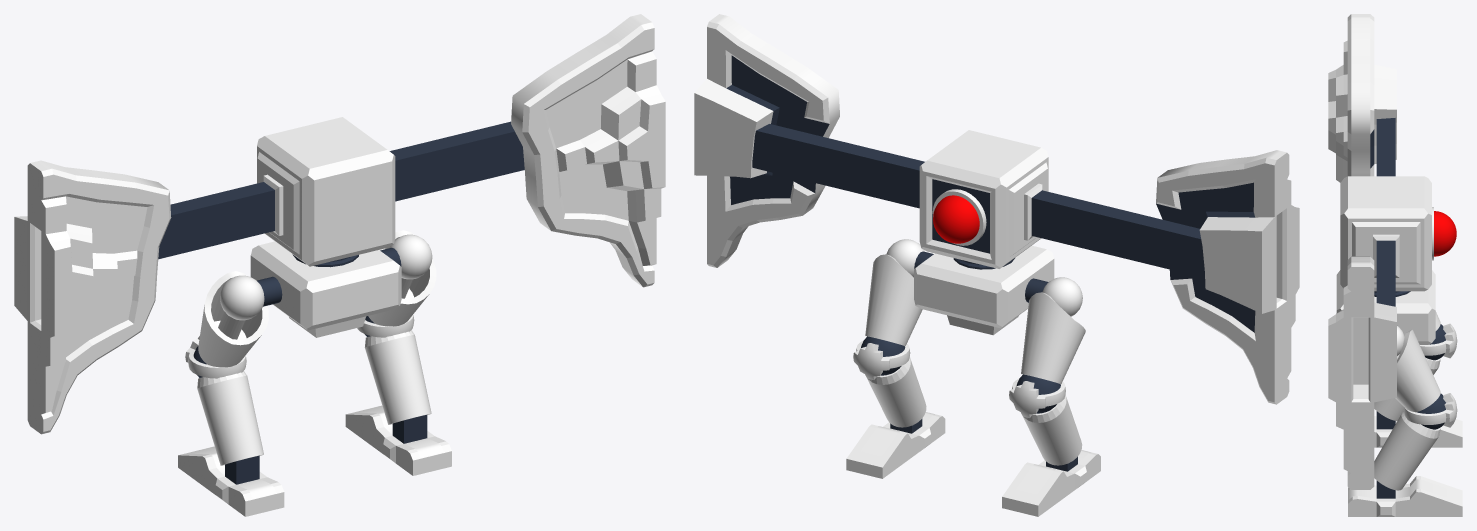
File: Knight_002.fbx
The picture shows the model from 3 angles, left to right: view 1: azimuth 30°, elevation 25°; view 2: azimuth 150°, elevation 25°; view 3: azimuth 270°, elevation 25°; orthographic projection. The views are drawn at different scales.
Visible parts, largest first — view 1: knightShieldLeft_001, knightShieldRight_001, knightHead_001, knightBody_001, knightArmRight_001, knightArmLeft_001, knightCalfLeft_001, knightCalfRight_001, knightFootRight_001, knightFootLeft_001, knightThighLeft_001, knightThighRight_001 (+3 smaller); view 2: knightShieldLeft_001, knightShieldRight_001, knightHead_001, knightArmLeft_001, knightArmRight_001, knightBody_001, knightThighLeft_001, knightThighRight_001, knightFootRight_001, knightFootLeft_001, knightCalfLeft_001, knightCalfRight_001 (+5 smaller); view 3: knightShieldRight_001, knightHead_001, knightShieldLeft_001, knightFootRight_001, knightCalfRight_001, knightThighRight_001, knightBody_001, knightArmRight_001, knightArmLeft_001, knightKneeRight_001, knightFootLeft_001, knightCore_001 (+2 smaller).
Part boxes in pixels (box(x1,y1,x2,y2)): knightShieldLeft_001: box(14, 160, 171, 434); knightShieldRight_001: box(511, 14, 665, 287); knightHead_001: box(257, 117, 395, 266); knightBody_001: box(250, 241, 401, 337); knightArmRight_001: box(389, 121, 524, 201); knightArmLeft_001: box(158, 174, 283, 259); knightCalfLeft_001: box(197, 371, 263, 465); knightCalfRight_001: box(364, 330, 431, 424); knightFootRight_001: box(345, 405, 451, 475); knightFootLeft_001: box(178, 446, 284, 516); knightThighLeft_001: box(198, 271, 268, 367); knightThighRight_001: box(368, 230, 436, 326); knightShieldLeft_001: box(1156, 150, 1299, 404); knightShieldRight_001: box(694, 14, 839, 267); knightHead_001: box(919, 130, 1048, 268); knightArmLeft_001: box(1024, 183, 1204, 277); knightArmRight_001: box(752, 124, 924, 208); knightBody_001: box(914, 245, 1054, 335); knightThighLeft_001: box(1021, 292, 1085, 383); knightThighRight_001: box(865, 254, 922, 346); knightFootRight_001: box(846, 412, 945, 478); knightFootLeft_001: box(1002, 450, 1100, 516); knightCalfLeft_001: box(1021, 395, 1082, 465); knightCalfRight_001: box(865, 357, 926, 427); knightShieldRight_001: box(1328, 256, 1396, 489); knightHead_001: box(1340, 176, 1431, 291); knightShieldLeft_001: box(1328, 14, 1396, 182); knightFootRight_001: box(1348, 476, 1462, 516); knightCalfRight_001: box(1374, 412, 1440, 490); knightThighRight_001: box(1395, 330, 1440, 412); knightBody_001: box(1336, 270, 1435, 344); knightArmRight_001: box(1373, 234, 1399, 306); knightArmLeft_001: box(1376, 118, 1395, 176); knightKneeRight_001: box(1403, 393, 1457, 429); knightFootLeft_001: box(1374, 411, 1462, 447); knightCore_001: box(1432, 207, 1456, 260).
Bounding box in the file's own units: 157 × 96.5 × 35.13.
